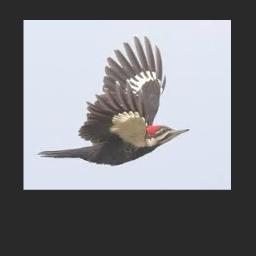Woodpecker: (37, 36, 190, 164)
